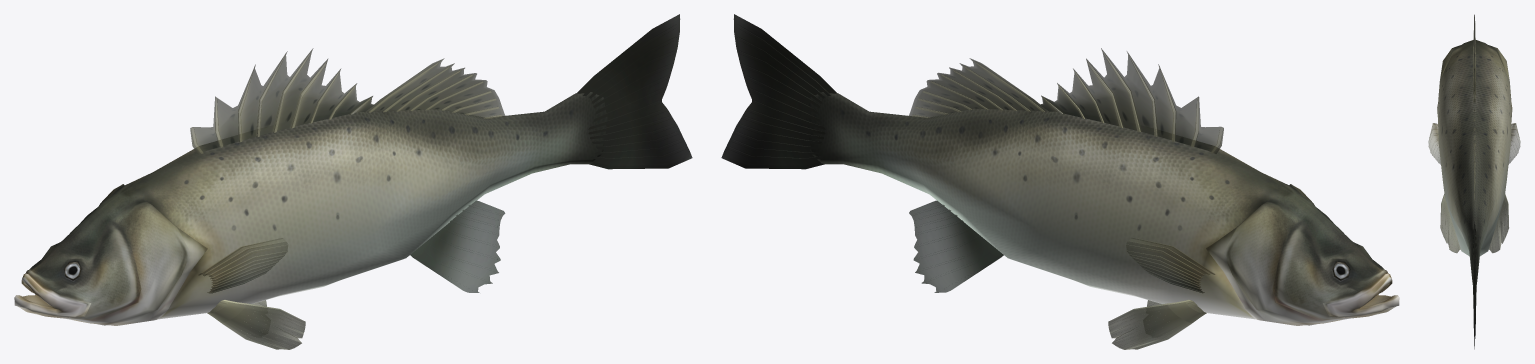
The model's file is perch_weever_sea_bass_fish.glb.
3 views of the same model, side by side, from view 1: azimuth 30°, elevation 25°; view 2: azimuth 150°, elevation 25°; view 3: azimuth 270°, elevation 25° (orthographic). The views are drawn at different scales.
Visible parts, largest first — view 1: Box01_blinn1_0, Plane05_blinn1_0, Plane02_blinn1_0, Plane04_blinn1_0, Plane10_blinn1_0, Plane09_blinn1_0, Plane03_blinn1_0; view 2: Box01_blinn1_0, Plane05_blinn1_0, Plane02_blinn1_0, Plane04_blinn1_0, Plane10_blinn1_0, Plane12_blinn1_0, Plane11_blinn1_0; view 3: Box01_blinn1_0, Plane09_blinn1_0, Plane12_blinn1_0, Plane05_blinn1_0, Plane03_blinn1_0, Plane11_blinn1_0, Plane02_blinn1_0, Plane10_blinn1_0.
Part boxes in pixels (x1,y1,x2,y2): Box01_blinn1_0: (14, 92, 607, 325); Plane05_blinn1_0: (577, 14, 692, 169); Plane02_blinn1_0: (190, 48, 373, 154); Plane04_blinn1_0: (410, 200, 505, 292); Plane10_blinn1_0: (365, 58, 504, 118); Plane09_blinn1_0: (207, 300, 305, 349); Plane03_blinn1_0: (198, 238, 288, 293); Box01_blinn1_0: (806, 92, 1399, 325); Plane05_blinn1_0: (721, 14, 836, 169); Plane02_blinn1_0: (1040, 48, 1223, 153); Plane04_blinn1_0: (909, 200, 1003, 292); Plane10_blinn1_0: (909, 58, 1047, 118); Plane12_blinn1_0: (1108, 299, 1206, 349); Plane11_blinn1_0: (1126, 237, 1215, 293); Box01_blinn1_0: (1437, 40, 1512, 294); Plane09_blinn1_0: (1440, 194, 1460, 253); Plane12_blinn1_0: (1489, 193, 1509, 253); Plane05_blinn1_0: (1471, 221, 1477, 349); Plane03_blinn1_0: (1428, 123, 1440, 164); Plane11_blinn1_0: (1508, 123, 1520, 164); Plane02_blinn1_0: (1473, 14, 1475, 115); Plane10_blinn1_0: (1473, 117, 1475, 202).
Bounding box in the file's own units: 26.81 × 10.92 × 3.9.
Materials: 1 (1 with a texture image).
